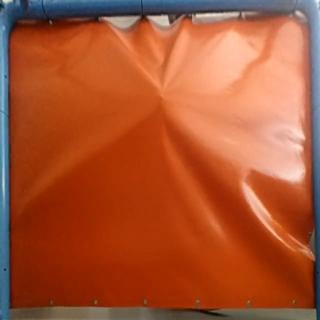Hit-hRxx: (155, 87, 169, 105)
